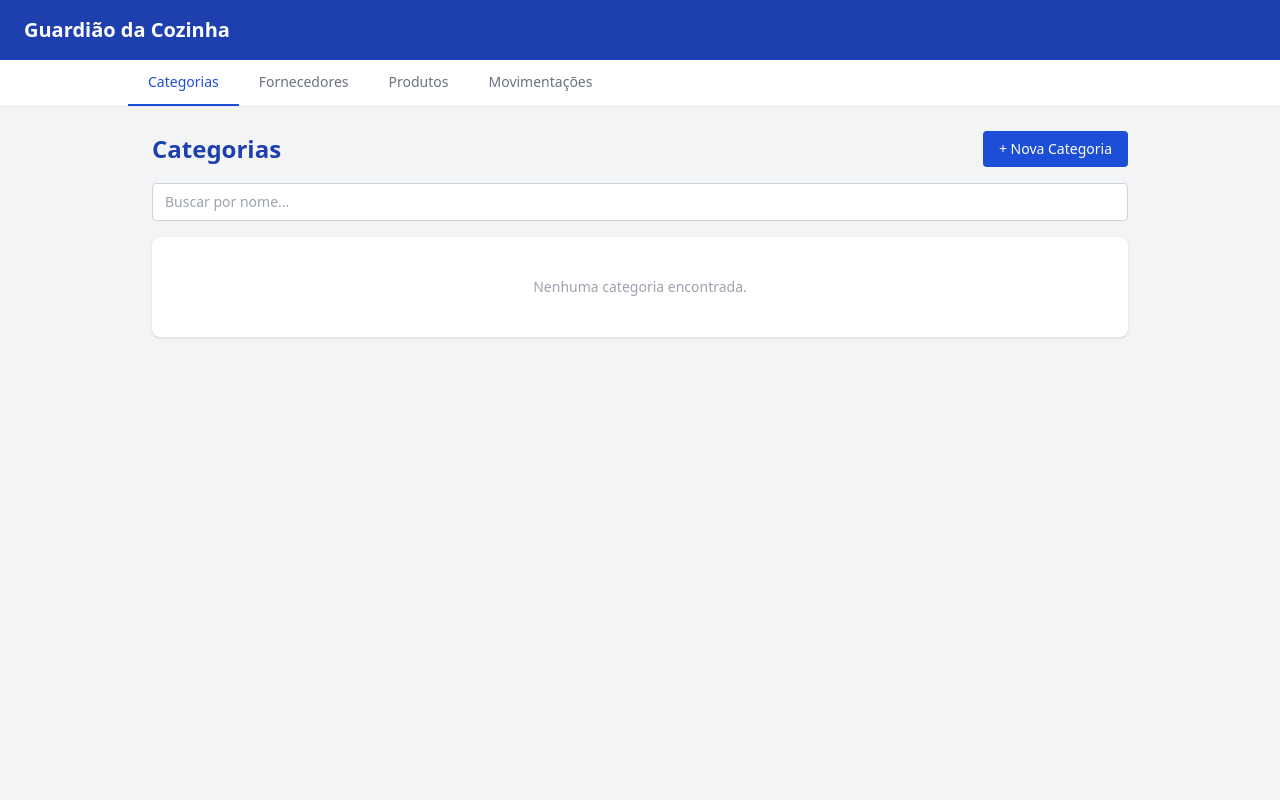
Test: Testes Guardião da Cozinha › Acessar o sistema e iniciar gravador
Click the button with class "rounded" showing "+ Nova Categoria": [1056, 149] box [983,131,1128,167]
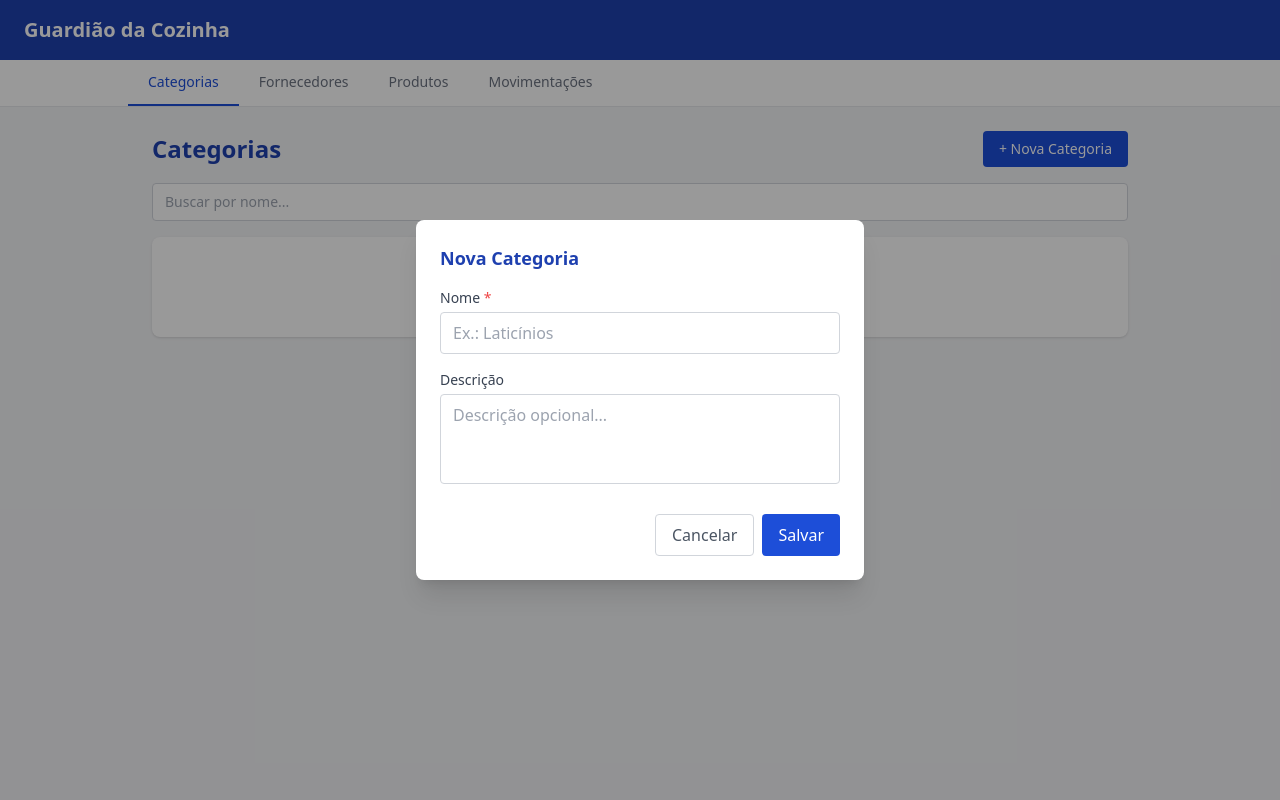
In the field with placeholder "Ex.: Laticínios": [640, 333] box [440,312,840,354], type "Laticinios"
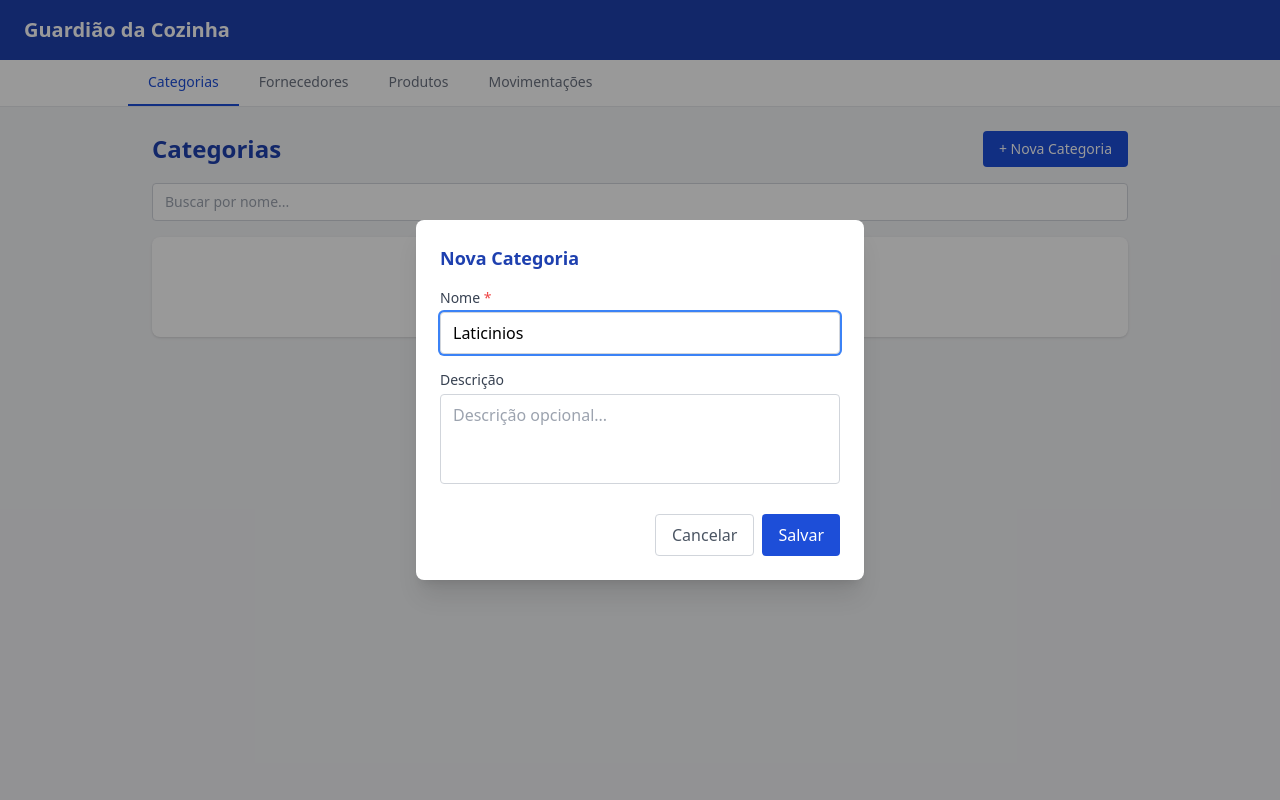
In the text box with class "border" showing "Descrição opcional...": [640, 439] box [440,394,840,484], type "Leites e derivados"
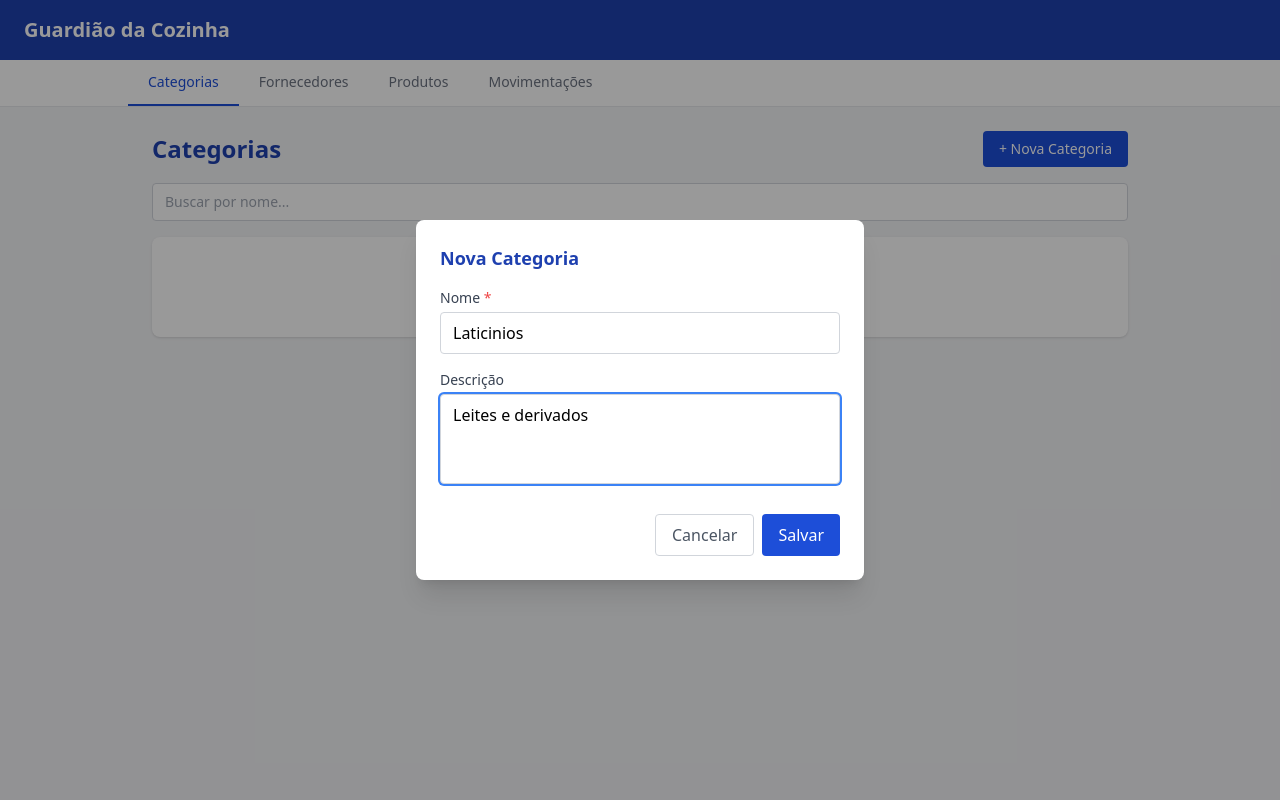
Click the submit button: [801, 535] box [762,514,840,556]
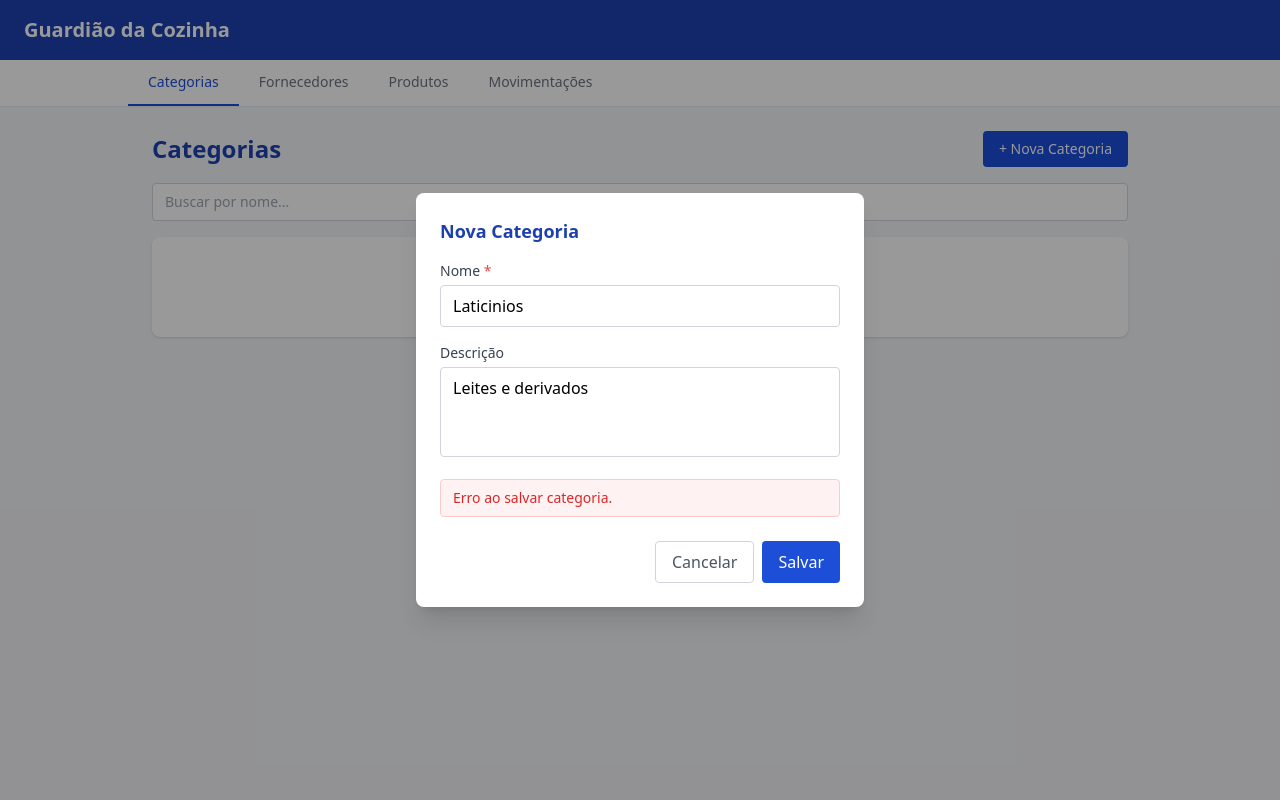
Expected: the text "Erro ao salvar categoria." is shown, [440,479,840,517]
